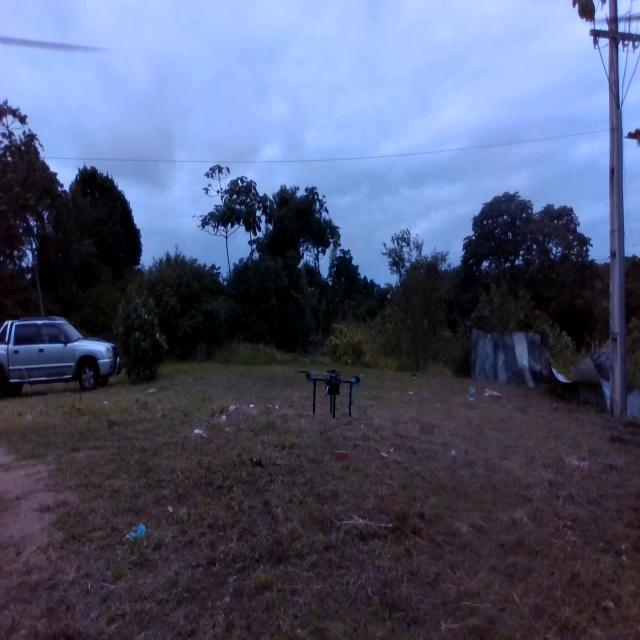-uav-: (293, 358, 370, 429)
